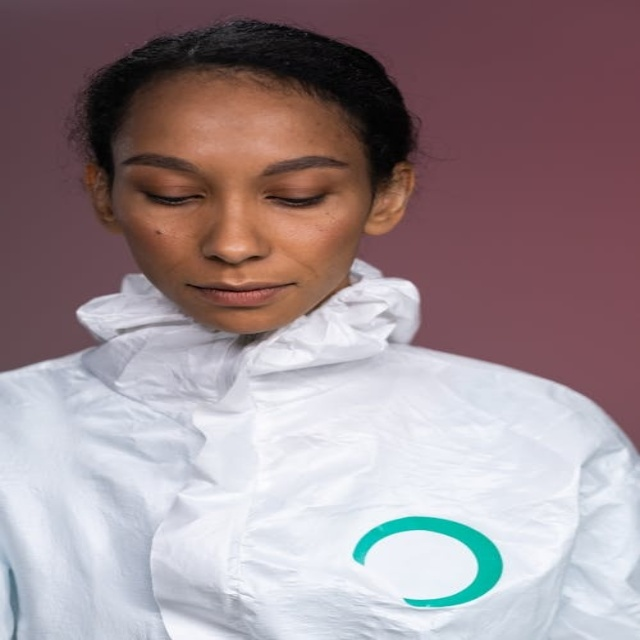Sin_gafas: (114, 148, 360, 226)
Sin_mascara: (177, 271, 314, 320)
